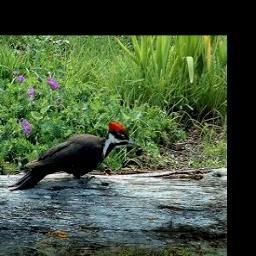Woodpecker: (9, 121, 140, 189)
